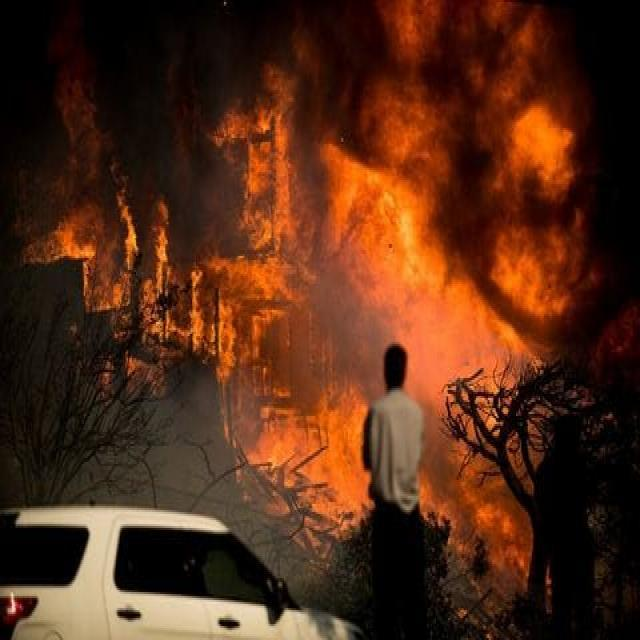Fire: (35, 2, 593, 574)
